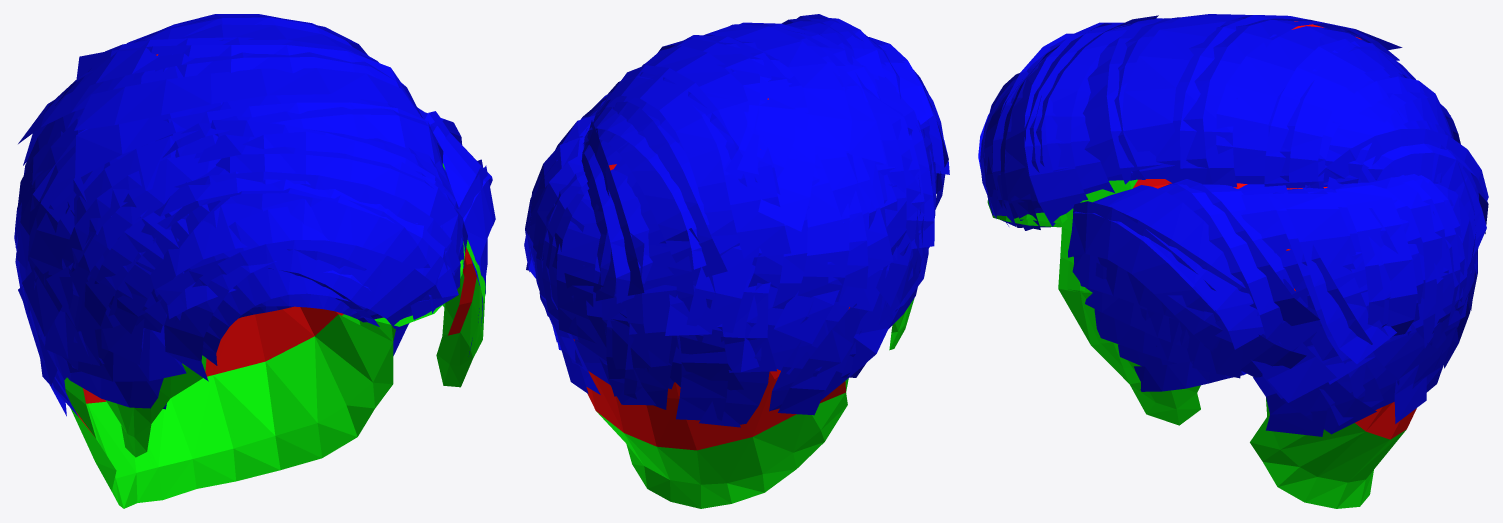
File: hair_002.obj
The picture shows the model from 3 angles, left to right: view 1: azimuth 30°, elevation 25°; view 2: azimuth 150°, elevation 25°; view 3: azimuth 270°, elevation 25°; orthographic projection. The views are drawn at different scales.
Size of the model in its own units: 19.21 by 21.61 by 21.93.
